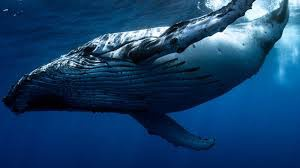humpback: (5, 8, 279, 113)
